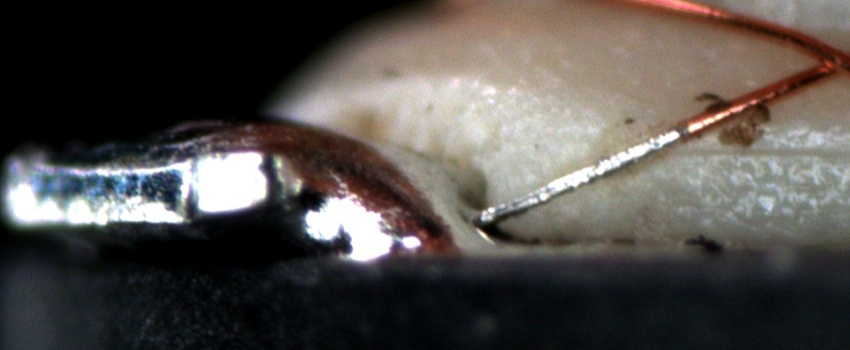CL: (796, 32, 850, 85)
DL: (675, 122, 850, 186)
TS: (474, 124, 686, 221)
